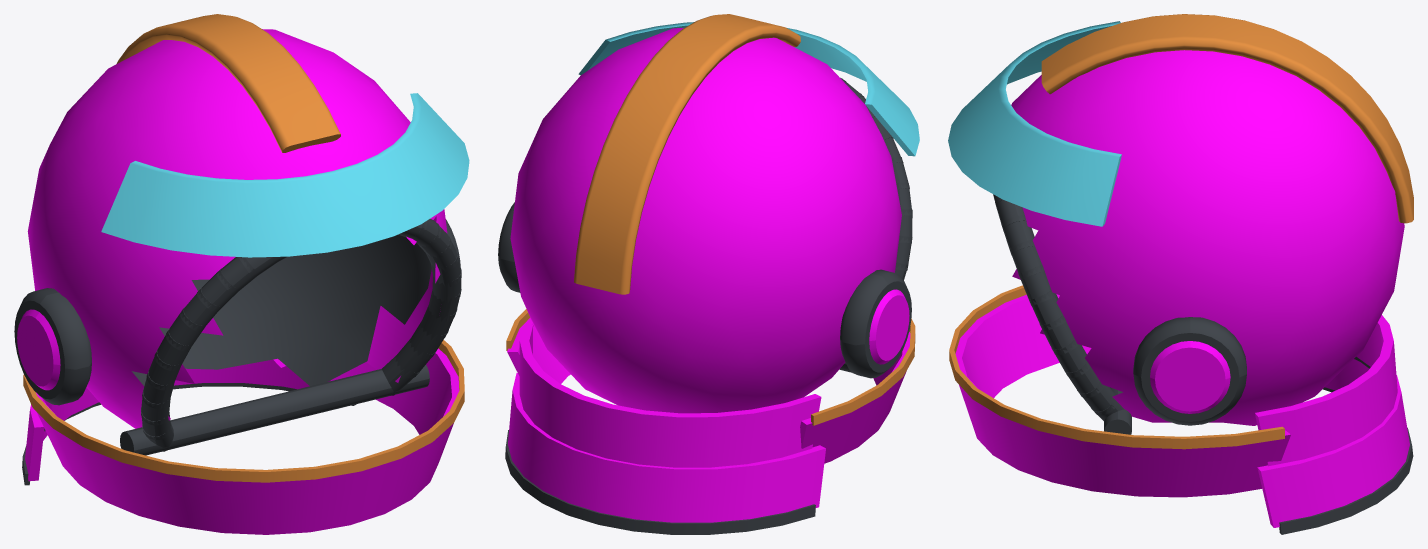
Rendered from porte_armure3_casque.glb.
The picture shows the model from 3 angles, left to right: view 1: azimuth 30°, elevation 25°; view 2: azimuth 150°, elevation 25°; view 3: azimuth 270°, elevation 25°; orthographic projection. The views are drawn at different scales.
Visible parts, largest first — view 1: tete__casque_teinte.006, tete__casque_teinte_sombre.006, tete__casque_visiere.002, tete__casque_composite_bande.002; view 2: tete__casque_teinte.006, tete__casque_composite_bande.002, tete__casque_teinte_sombre.006, tete__casque_visiere.002; view 3: tete__casque_teinte.006, tete__casque_composite_bande.002, tete__casque_visiere.002, tete__casque_teinte_sombre.006.
Boxes of the visible parts, <box> form: tete__casque_teinte.006: <box>17,29,459,534</box>; tete__casque_teinte_sombre.006: <box>14,219,461,485</box>; tete__casque_visiere.002: <box>101,93,469,257</box>; tete__casque_composite_bande.002: <box>23,14,464,482</box>; tete__casque_teinte.006: <box>507,28,910,522</box>; tete__casque_composite_bande.002: <box>506,14,915,425</box>; tete__casque_teinte_sombre.006: <box>498,77,912,534</box>; tete__casque_visiere.002: <box>578,22,919,156</box>; tete__casque_teinte.006: <box>955,50,1409,527</box>; tete__casque_composite_bande.002: <box>949,14,1413,449</box>; tete__casque_visiere.002: <box>948,21,1121,226</box>; tete__casque_teinte_sombre.006: <box>993,194,1413,534</box>.
Bounding box in the file's own units: 0.36 × 0.377 × 0.3693.
